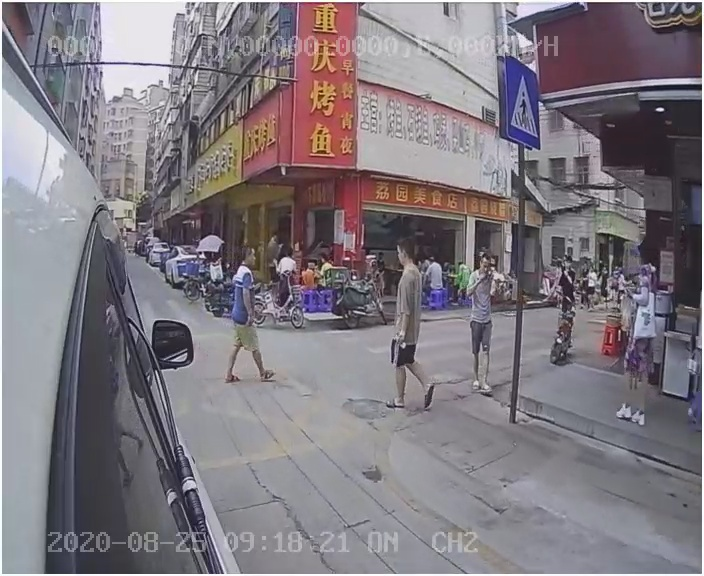person: (218, 246, 281, 390)
